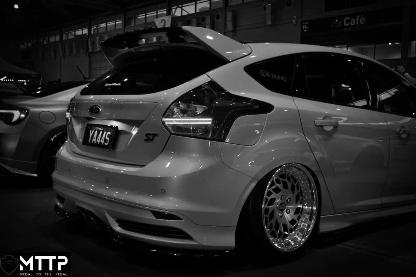license plate: (81, 119, 119, 154)
